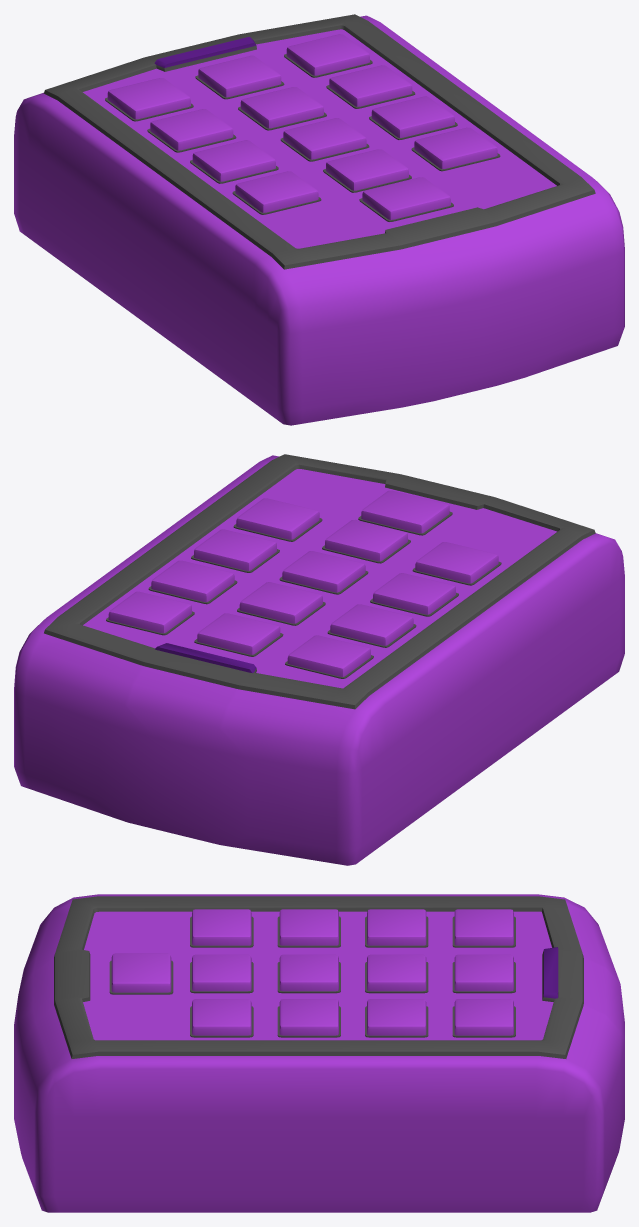
Rendered from keylock_1.fbx.
The picture shows the model from 3 angles, top to bottom: view 1: azimuth 30°, elevation 25°; view 2: azimuth 150°, elevation 25°; view 3: azimuth 270°, elevation 25°; orthographic projection. The views are drawn at different scales.
Parts seen in each view (by area): view 1: keylock_001_LOD0; view 2: keylock_001_LOD0; view 3: keylock_001_LOD0.
Boxes of the visible parts, x1,y1,x2,y2 form: keylock_001_LOD0: (14,14,624,425); keylock_001_LOD0: (14,454,624,865); keylock_001_LOD0: (14,894,624,1212).
Size of what is drawn, in the model's own units: 6.84 by 2.99 by 10.28.
